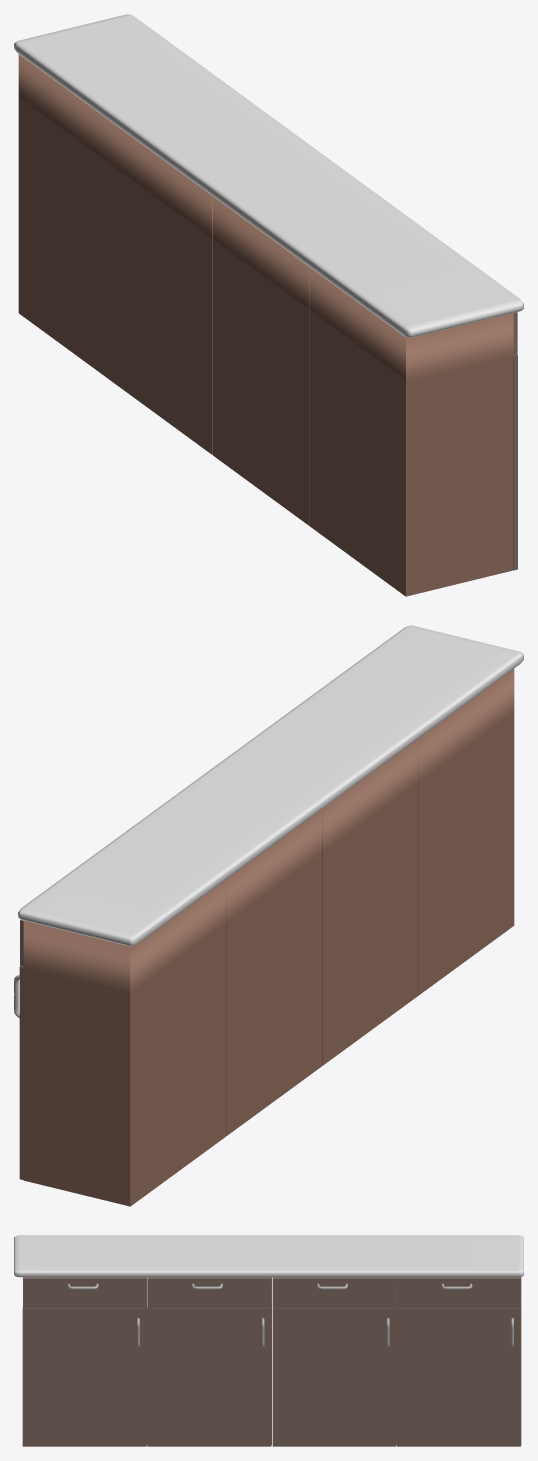
Rendered from Bottom cabinets with small drawers .fbx.
3 renders of one model, top to bottom at view 1: azimuth 30°, elevation 25°; view 2: azimuth 150°, elevation 25°; view 3: azimuth 270°, elevation 25°, orthographic. The views are drawn at different scales.
Visible parts, largest first — view 1: pCube93 (×5), pCube101, pCube97; view 2: pCube93 (×5), pCube101, pCube97; view 3: pCube97 (×4), pCube101, pCube109 (×4), pCube93.
Part boxes in pixels (left/top/right/bottom): pCube93 (×5): left=18, top=54, right=513, bottom=596; pCube101: left=14, top=14, right=523, bottom=337; pCube97: left=513, top=354, right=517, bottom=570; pCube93 (×5): left=23, top=669, right=514, bottom=1206; pCube101: left=18, top=625, right=523, bottom=946; pCube97: left=19, top=966, right=23, bottom=1179; pCube97 (×4): left=22, top=1307, right=520, bottom=1446; pCube101: left=14, top=1235, right=523, bottom=1277; pCube109 (×4): left=23, top=1277, right=520, bottom=1308; pCube93: left=23, top=1277, right=147, bottom=1444.
Size of the model in its own units: 3 by 6.06 by 15.96.
